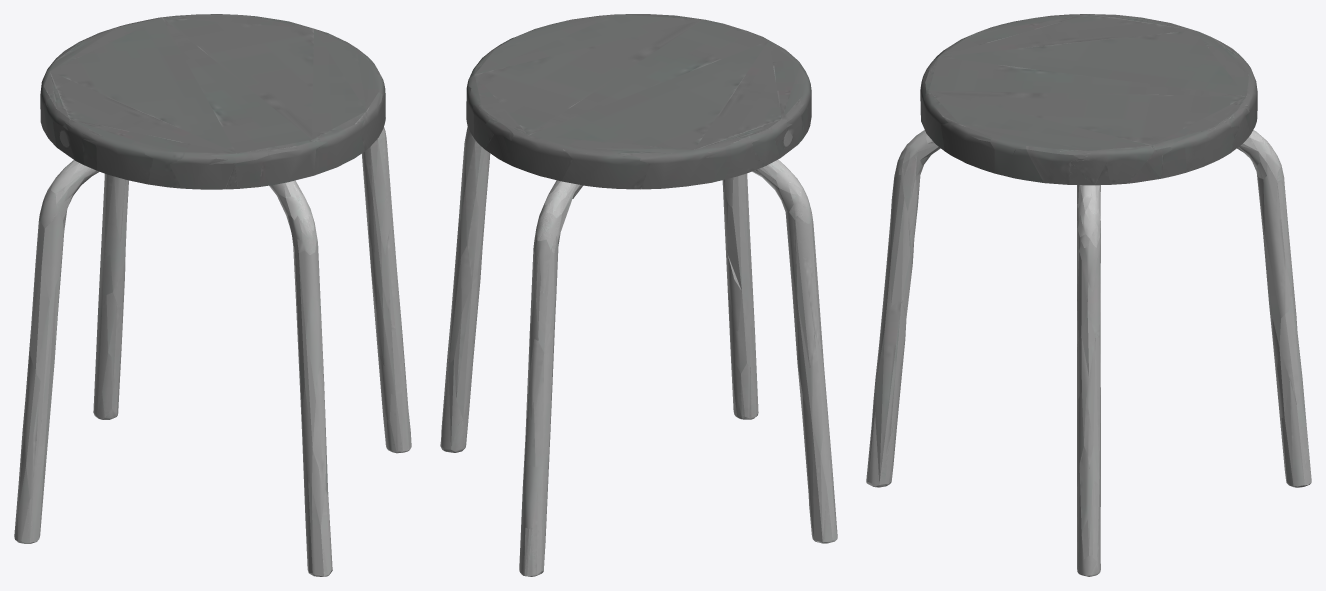
Rendered from lab_chair.glb.
3 renders of one model, left to right at view 1: azimuth 30°, elevation 25°; view 2: azimuth 150°, elevation 25°; view 3: azimuth 270°, elevation 25°, orthographic. The views are drawn at different scales.
Size of the model in its own units: 1.9 by 1.9 by 1.9.
1 material, 1 textured.
